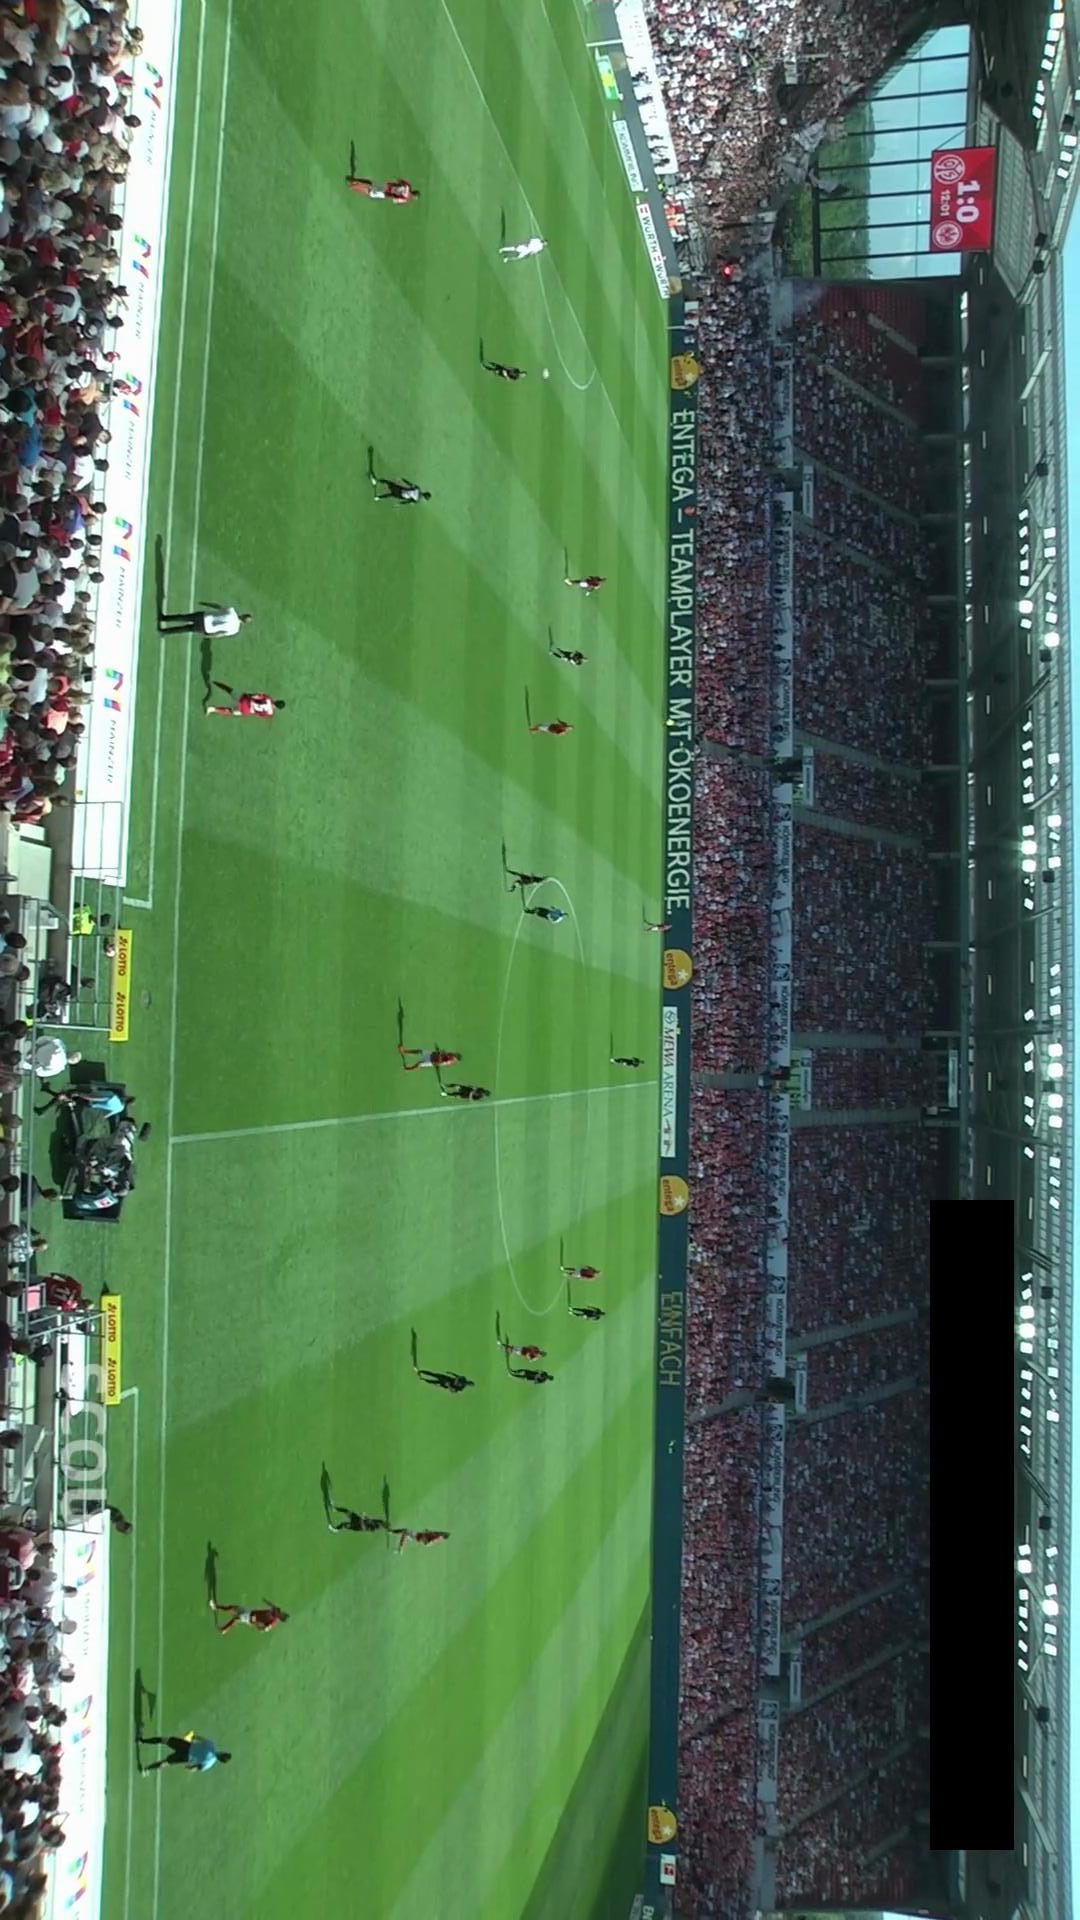ball: (540, 368, 552, 379)
player: (203, 679, 287, 719), (209, 1597, 291, 1635), (346, 175, 421, 204), (371, 473, 432, 505), (388, 1526, 451, 1555), (399, 1044, 464, 1072), (329, 1503, 387, 1534), (417, 1368, 476, 1393), (498, 237, 550, 262), (563, 576, 607, 600), (483, 359, 528, 382), (505, 868, 544, 893), (499, 1342, 548, 1361), (440, 1083, 491, 1101), (528, 718, 575, 736), (510, 1367, 555, 1384), (552, 647, 588, 667), (560, 1264, 602, 1281), (568, 1305, 607, 1321), (610, 1055, 646, 1069), (644, 919, 673, 933)
referee: (137, 1732, 232, 1777), (524, 905, 569, 924), (661, 716, 691, 730)
